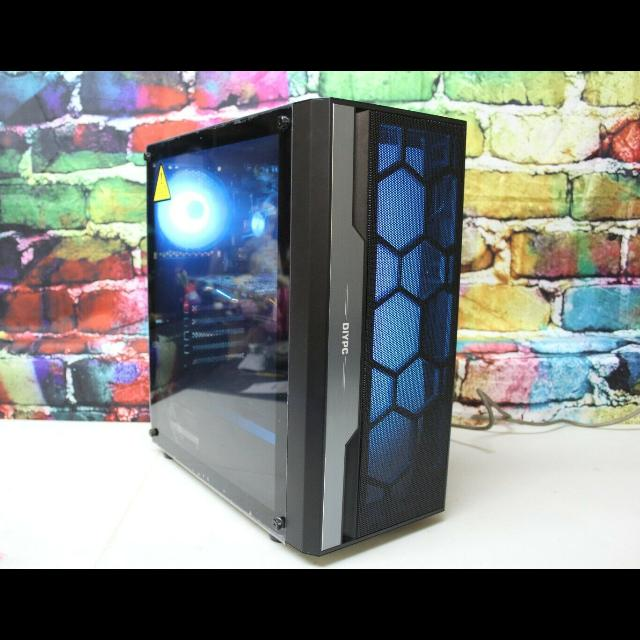Desktop-PC: (146, 97, 470, 555)
